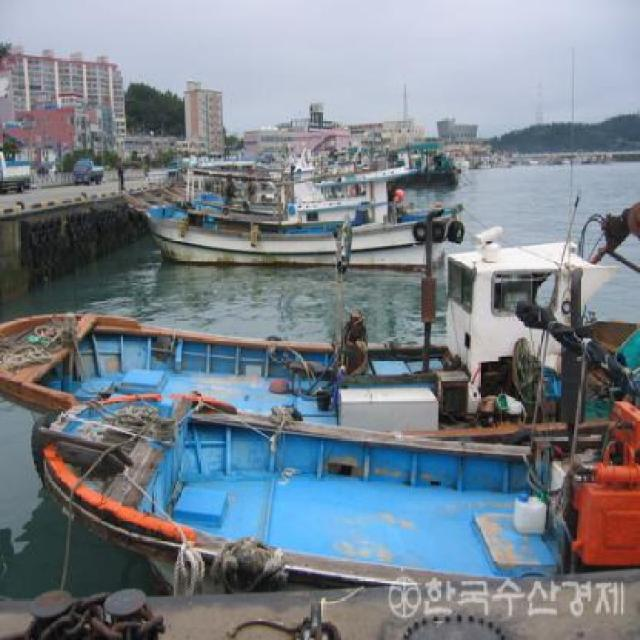fish-b: (2, 227, 640, 450), (28, 388, 640, 594), (131, 169, 474, 276)
